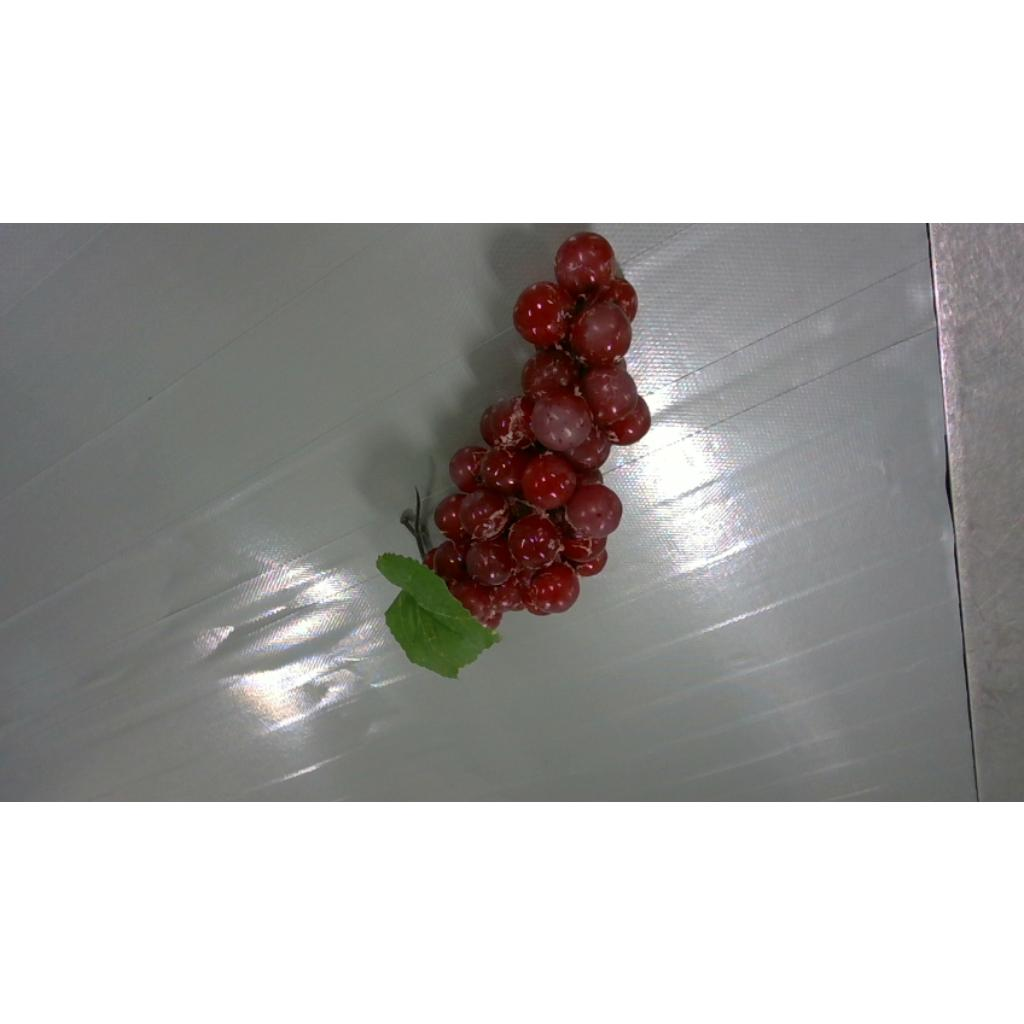grape: (378, 232, 652, 675)
